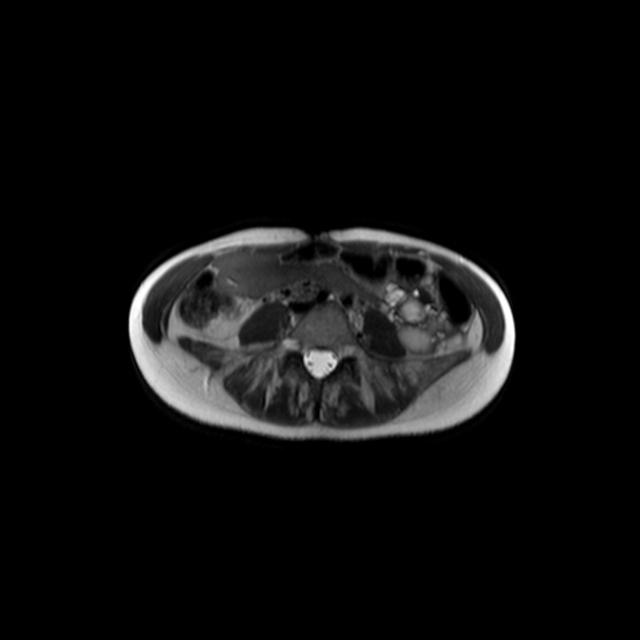sag: (225, 299, 244, 319)
sol: (378, 285, 456, 356)
